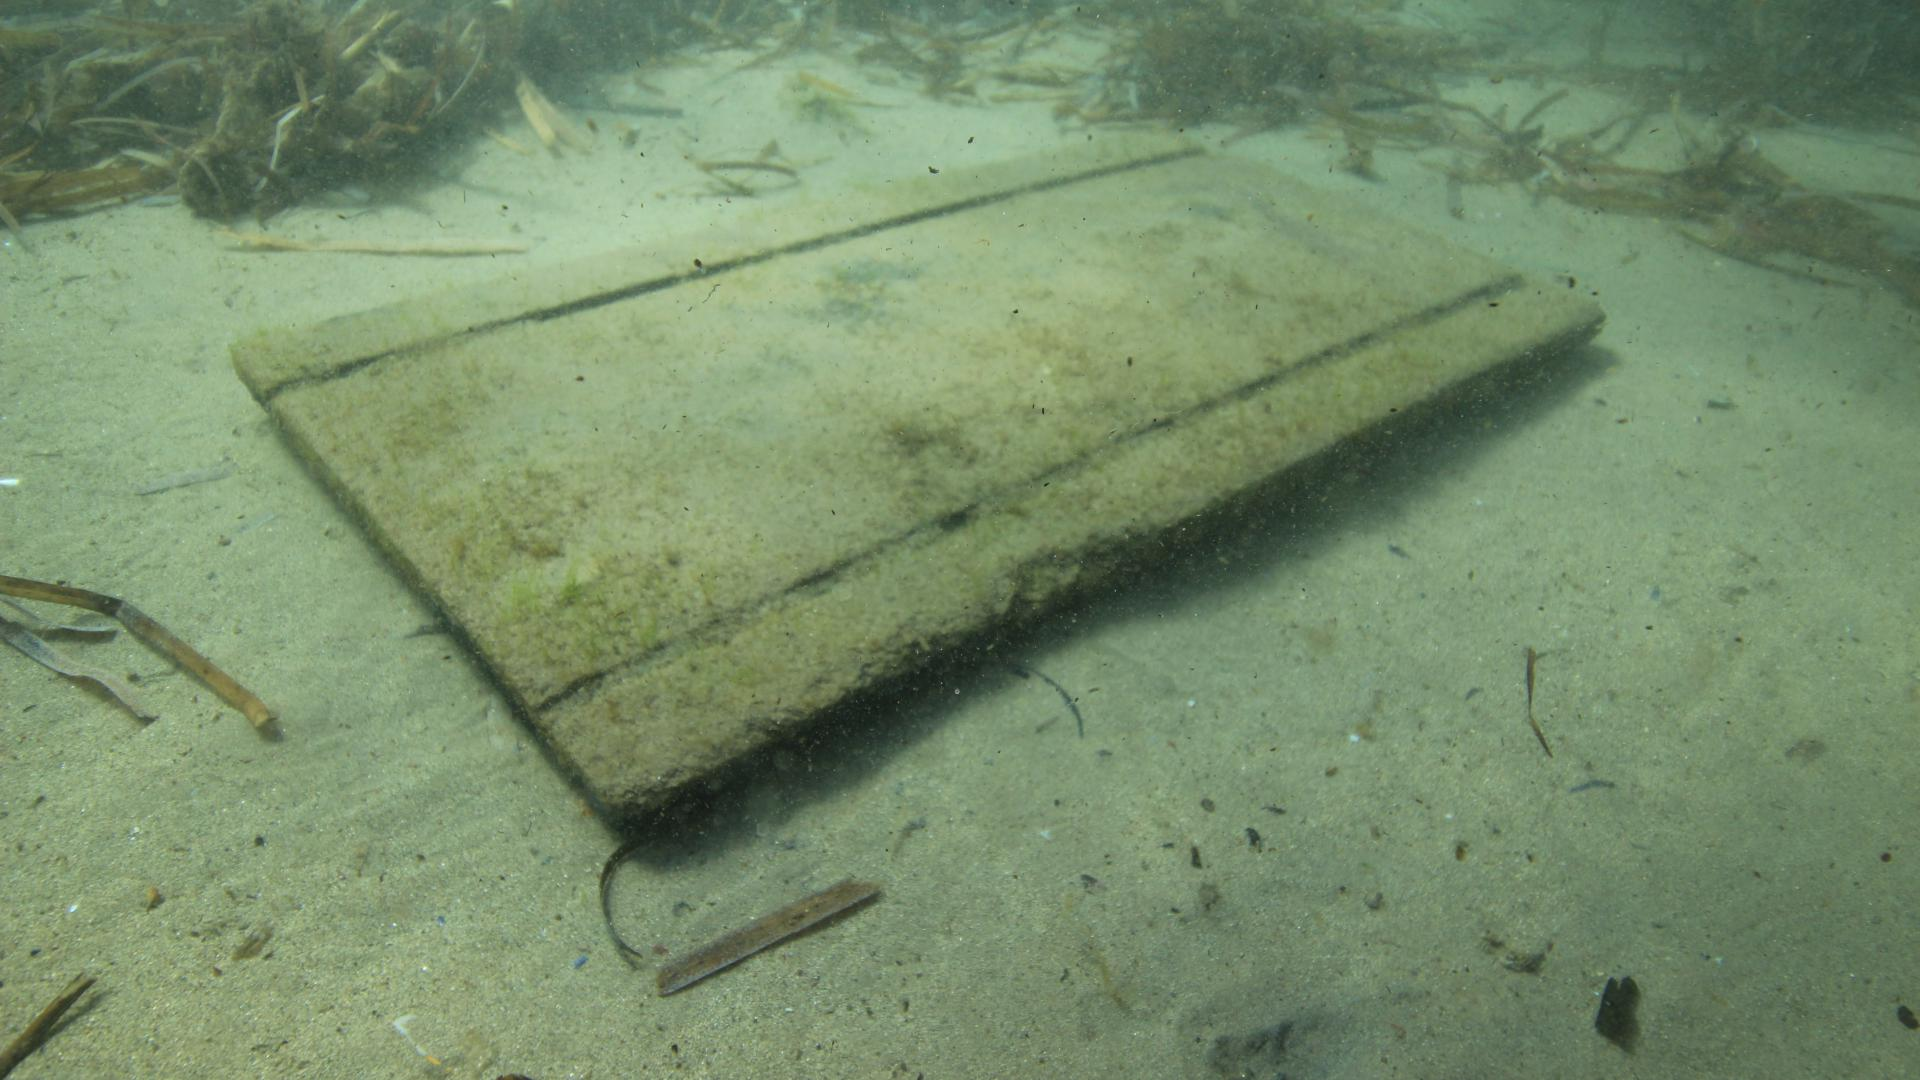wood: (229, 127, 1606, 840)
